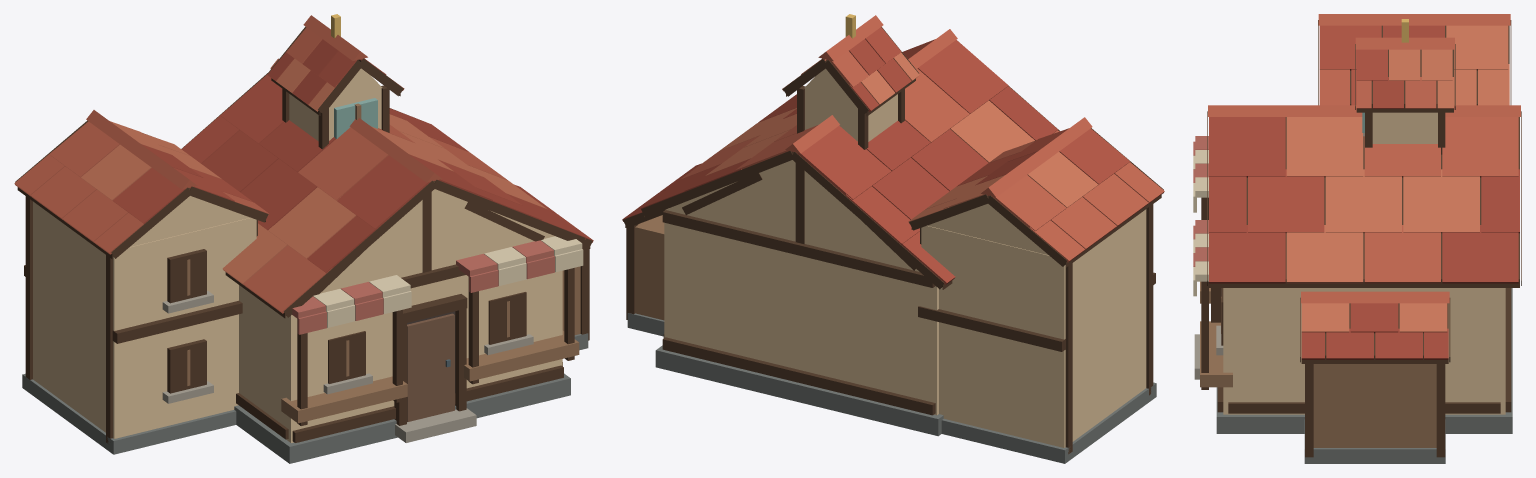
The model's file is ENV_Civic_market_LOD1.glb.
3 views of the same model, side by side, from view 1: azimuth 30°, elevation 25°; view 2: azimuth 150°, elevation 25°; view 3: azimuth 270°, elevation 25° (orthographic).
Parts seen in each view (by area): view 1: ENV_Civic_market_LOD1_roof_roofTiles, ENV_Civic_market_LOD1_stage7_upper_wing_plaster, ENV_Civic_market_LOD1_shell_plaster, ENV_Civic_market_LOD1_stage7_upper_wing_roofTiles, ENV_Civic_market_LOD1_shell_woodDark, ENV_Civic_market_LOD1_stage7_upper_wing_woodDark, ENV_Civic_market_LOD1_foundation_stoneDark, ENV_Civic_market_LOD1_market_stalls_woodLight, ENV_Civic_market_LOD1_stage8_roof_lantern_roofTiles, ENV_Civic_market_LOD1_shell_wood, ENV_Civic_market_LOD1_market_stalls_red, ENV_Civic_market_LOD1_market_stalls_plasterIvory (+10 smaller); view 2: ENV_Civic_market_LOD1_shell_plaster, ENV_Civic_market_LOD1_stage7_upper_wing_plaster, ENV_Civic_market_LOD1_roof_roofTiles, ENV_Civic_market_LOD1_stage7_upper_wing_roofTiles, ENV_Civic_market_LOD1_shell_woodDark, ENV_Civic_market_LOD1_stage7_upper_wing_woodDark, ENV_Civic_market_LOD1_foundation_stoneDark, ENV_Civic_market_LOD1_stage8_roof_lantern_roofTiles, ENV_Civic_market_LOD1_stage7_upper_wing_stoneDark, ENV_Civic_market_LOD1_roof_woodDark, ENV_Civic_market_LOD1_stage8_roof_lantern_plaster, ENV_Civic_market_LOD1_stage5_shed_woodLight (+3 smaller); view 3: ENV_Civic_market_LOD1_roof_roofTiles, ENV_Civic_market_LOD1_shell_plaster, ENV_Civic_market_LOD1_stage7_upper_wing_roofTiles, ENV_Civic_market_LOD1_stage5_shed_woodLight, ENV_Civic_market_LOD1_stage5_shed_roofTiles, ENV_Civic_market_LOD1_stage8_roof_lantern_roofTiles, ENV_Civic_market_LOD1_foundation_stoneDark, ENV_Civic_market_LOD1_shell_woodDark, ENV_Civic_market_LOD1_roof_woodDark, ENV_Civic_market_LOD1_stage5_shed_woodDark, ENV_Civic_market_LOD1_stage5_shed_stoneDark, ENV_Civic_market_LOD1_stage8_roof_lantern_plaster (+7 smaller).
Part boxes in pixels (bbox=[...]): ENV_Civic_market_LOD1_roof_roofTiles: bbox=[181, 58, 586, 313]; ENV_Civic_market_LOD1_stage7_upper_wing_plaster: bbox=[33, 196, 256, 438]; ENV_Civic_market_LOD1_shell_plaster: bbox=[239, 189, 562, 442]; ENV_Civic_market_LOD1_stage7_upper_wing_roofTiles: bbox=[14, 110, 268, 254]; ENV_Civic_market_LOD1_shell_woodDark: bbox=[236, 192, 563, 442]; ENV_Civic_market_LOD1_stage7_upper_wing_woodDark: bbox=[15, 120, 268, 443]; ENV_Civic_market_LOD1_foundation_stoneDark: bbox=[234, 373, 570, 463]; ENV_Civic_market_LOD1_market_stalls_woodLight: bbox=[281, 330, 579, 423]; ENV_Civic_market_LOD1_stage8_roof_lantern_roofTiles: bbox=[267, 15, 404, 111]; ENV_Civic_market_LOD1_shell_wood: bbox=[407, 313, 454, 421]; ENV_Civic_market_LOD1_market_stalls_red: bbox=[292, 240, 554, 334]; ENV_Civic_market_LOD1_market_stalls_plasterIvory: bbox=[313, 236, 583, 327]; ENV_Civic_market_LOD1_shell_plaster: bbox=[664, 160, 938, 415]; ENV_Civic_market_LOD1_stage7_upper_wing_plaster: bbox=[921, 204, 1146, 447]; ENV_Civic_market_LOD1_roof_roofTiles: bbox=[641, 29, 1059, 284]; ENV_Civic_market_LOD1_stage7_upper_wing_roofTiles: bbox=[908, 117, 1164, 262]; ENV_Civic_market_LOD1_shell_woodDark: bbox=[662, 163, 935, 415]; ENV_Civic_market_LOD1_stage7_upper_wing_woodDark: bbox=[909, 128, 1163, 454]; ENV_Civic_market_LOD1_foundation_stoneDark: bbox=[655, 345, 943, 436]; ENV_Civic_market_LOD1_stage8_roof_lantern_roofTiles: bbox=[782, 15, 919, 111]; ENV_Civic_market_LOD1_stage7_upper_wing_stoneDark: bbox=[941, 382, 1156, 463]; ENV_Civic_market_LOD1_roof_woodDark: bbox=[641, 41, 1059, 289]; ENV_Civic_market_LOD1_stage8_roof_lantern_plaster: bbox=[804, 68, 897, 141]; ENV_Civic_market_LOD1_stage5_shed_woodLight: bbox=[635, 215, 664, 320]; ENV_Civic_market_LOD1_roof_roofTiles: bbox=[1208, 105, 1520, 283]; ENV_Civic_market_LOD1_shell_plaster: bbox=[1223, 288, 1505, 414]; ENV_Civic_market_LOD1_stage7_upper_wing_roofTiles: bbox=[1318, 14, 1510, 105]; ENV_Civic_market_LOD1_stage5_shed_woodLight: bbox=[1313, 364, 1436, 447]; ENV_Civic_market_LOD1_stage5_shed_roofTiles: bbox=[1301, 291, 1449, 359]; ENV_Civic_market_LOD1_stage8_roof_lantern_roofTiles: bbox=[1355, 37, 1454, 108]; ENV_Civic_market_LOD1_foundation_stoneDark: bbox=[1216, 288, 1512, 433]; ENV_Civic_market_LOD1_shell_woodDark: bbox=[1211, 288, 1511, 413]; ENV_Civic_market_LOD1_roof_woodDark: bbox=[1207, 111, 1521, 287]; ENV_Civic_market_LOD1_stage5_shed_woodDark: bbox=[1300, 297, 1450, 457]; ENV_Civic_market_LOD1_stage5_shed_stoneDark: bbox=[1304, 419, 1445, 463]; ENV_Civic_market_LOD1_stage8_roof_lantern_plaster: bbox=[1372, 112, 1437, 143].
Size of the model in its own units: 8.76 by 6.07 by 5.24.
